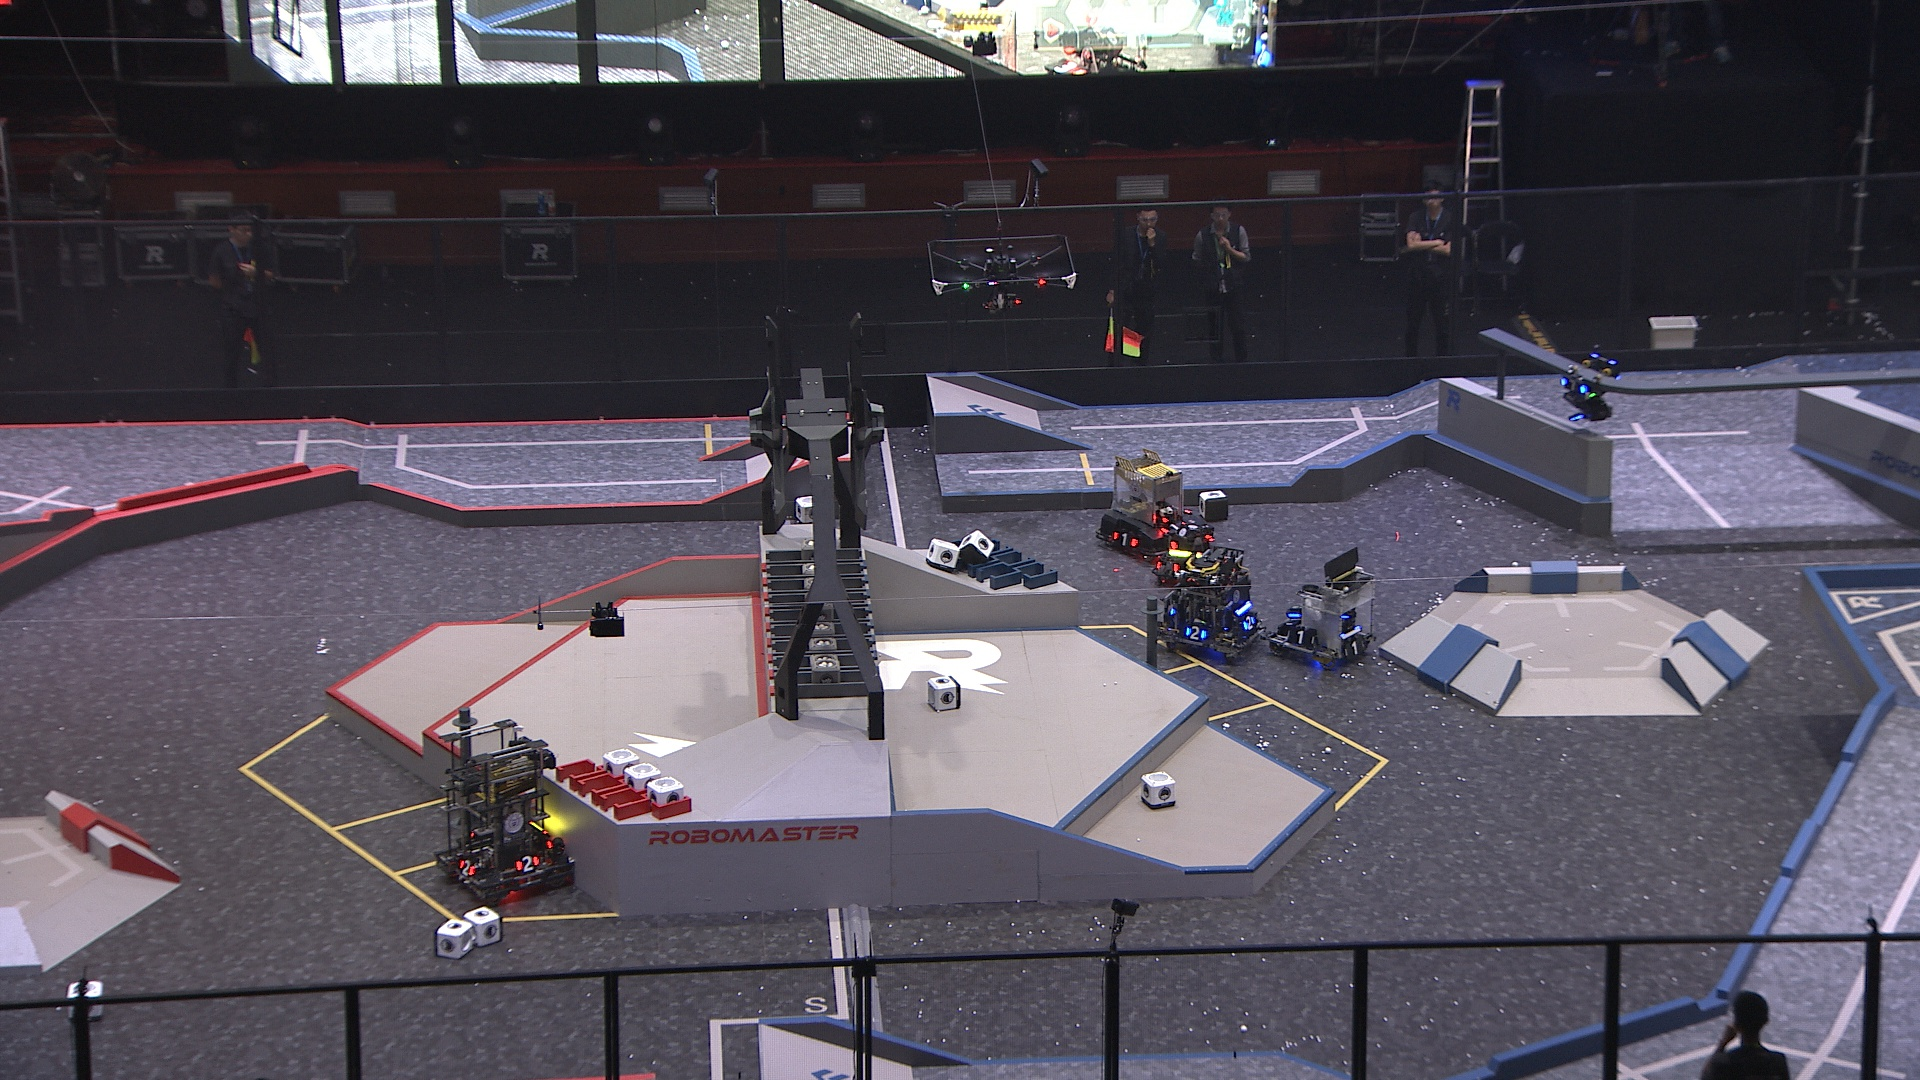armor: (1556, 375, 1588, 398), (1288, 628, 1316, 651), (458, 858, 480, 880), (517, 855, 539, 874), (1112, 529, 1135, 547), (1342, 638, 1367, 655), (1183, 626, 1209, 641), (1162, 518, 1185, 533), (1282, 616, 1300, 633), (1242, 615, 1255, 632)
car: (429, 717, 583, 907), (1266, 549, 1379, 673), (1159, 542, 1265, 661), (1095, 450, 1191, 556), (1150, 522, 1221, 583)
watcher: (1553, 351, 1626, 425)
